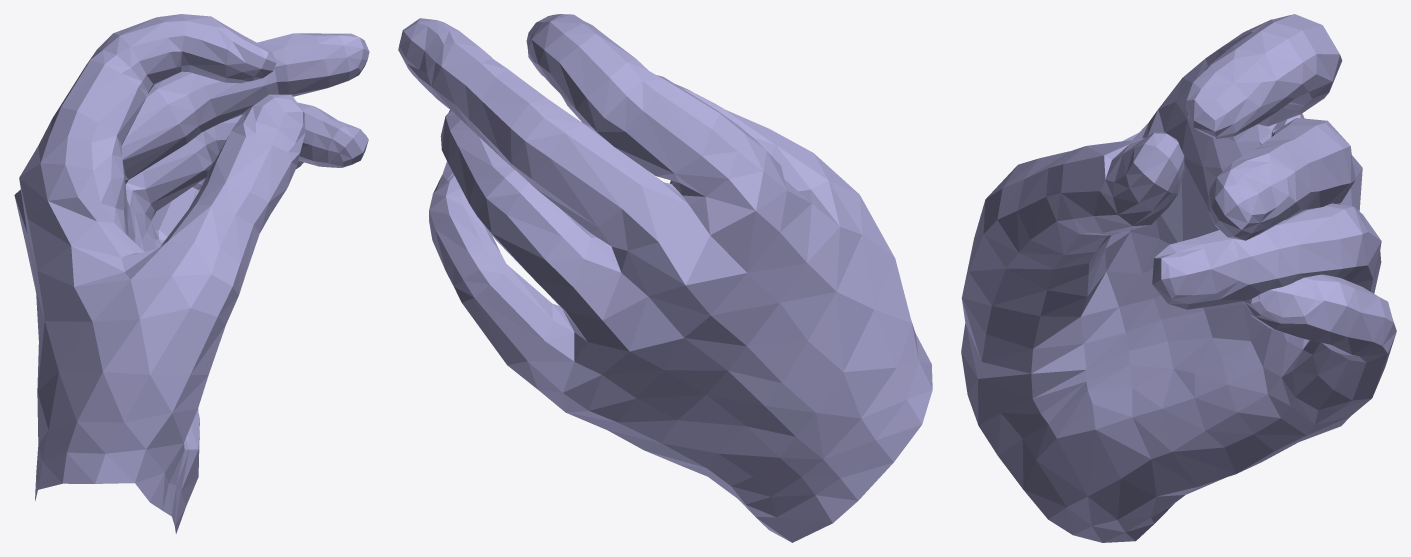
The model's file is frame_0014_source_000014_hand.glb.
3 views of the same model, side by side, from view 1: azimuth 30°, elevation 25°; view 2: azimuth 150°, elevation 25°; view 3: azimuth 270°, elevation 25° (orthographic). The views are drawn at different scales.
Parts seen in each view (by area): view 1: world; view 2: world; view 3: world.
Part boxes in pixels (<box>): world: <box>14,14,369,533</box>; world: <box>398,14,932,542</box>; world: <box>961,14,1396,542</box>.
Bounding box in the file's own units: 0.1242 × 0.1376 × 0.0934.
